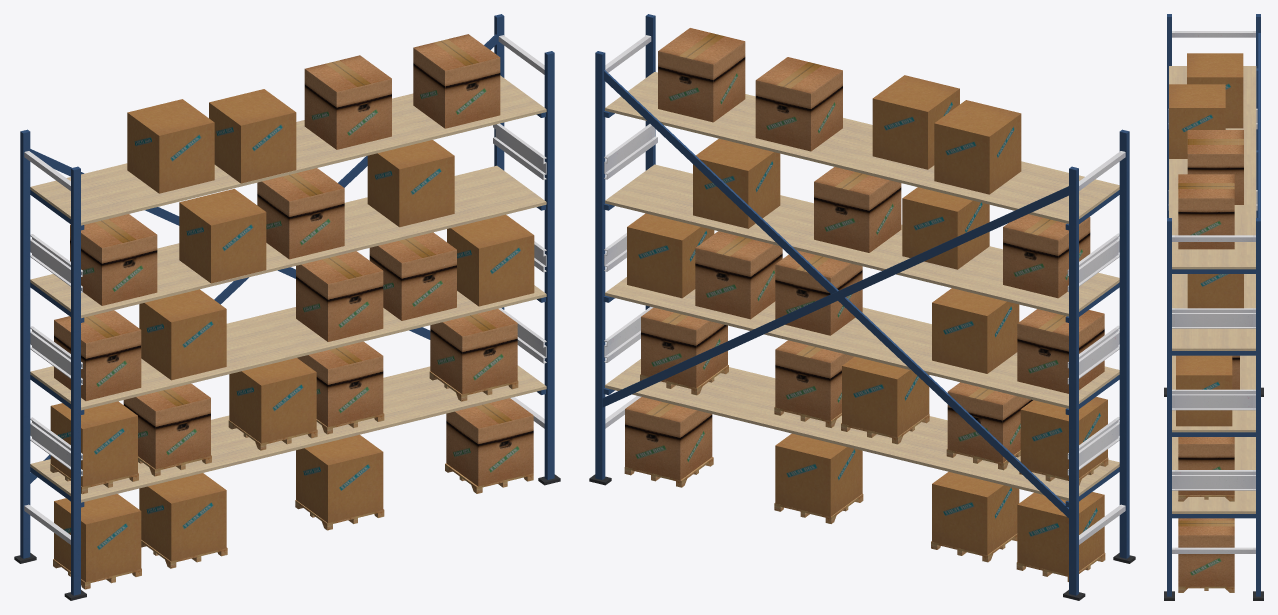
File: BigShelves03Group1.glb
3 renders of one model, left to right at view 1: azimuth 30°, elevation 25°; view 2: azimuth 150°, elevation 25°; view 3: azimuth 270°, elevation 25°, orthographic. The views are drawn at different scales.
Visible parts, largest first — view 1: Cardboard_box01, Cardboard_box05, BigShelves03, BigShelvesWoodBox; view 2: BigShelves03, Cardboard_box01, Cardboard_box05, BigShelvesWoodBox; view 3: BigShelves03, Cardboard_box05, Cardboard_box01, BigShelvesWoodBox.
Boxes of the visible parts, x1,y1,x2,y2 form: Cardboard_box01: (50,89,534,582); Cardboard_box05: (54,34,533,486); BigShelves03: (14,14,560,600); BigShelvesWoodBox: (50,371,533,589); BigShelves03: (589,14,1135,600); Cardboard_box01: (627,75,1107,574); Cardboard_box05: (625,28,1104,480); BigShelvesWoodBox: (624,365,1108,581); BigShelves03: (1164,14,1263,600); Cardboard_box05: (1178,130,1243,586); Cardboard_box01: (1169,53,1243,426); BigShelvesWoodBox: (1178,495,1234,592).
Bounding box in the file's own units: 9.03 × 7.59 × 1.81.
7 materials, 7 textured.
